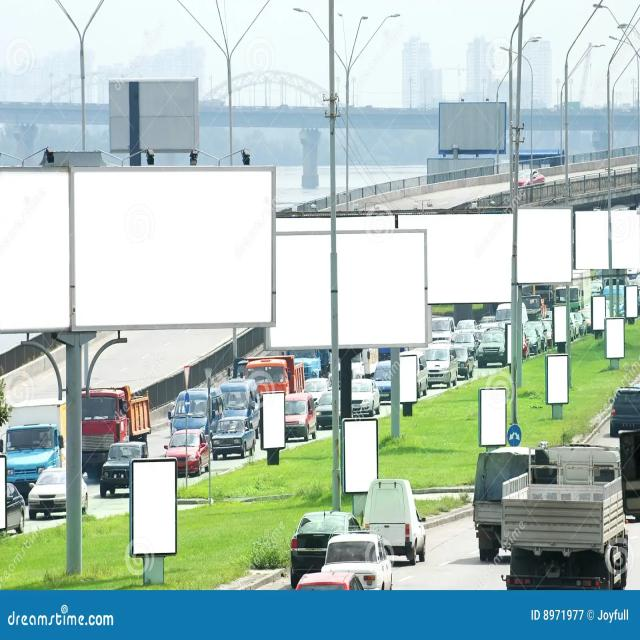Billboard_LHS: (69, 170, 283, 331), (0, 168, 69, 340), (339, 229, 429, 357), (435, 211, 513, 329), (474, 379, 518, 455)
Billboard_overhead_small: (88, 65, 208, 157), (429, 82, 512, 168)
Billboard_small: (124, 451, 183, 566), (342, 406, 386, 494), (257, 382, 292, 468), (544, 348, 579, 427), (603, 316, 629, 368), (482, 422, 490, 425)
